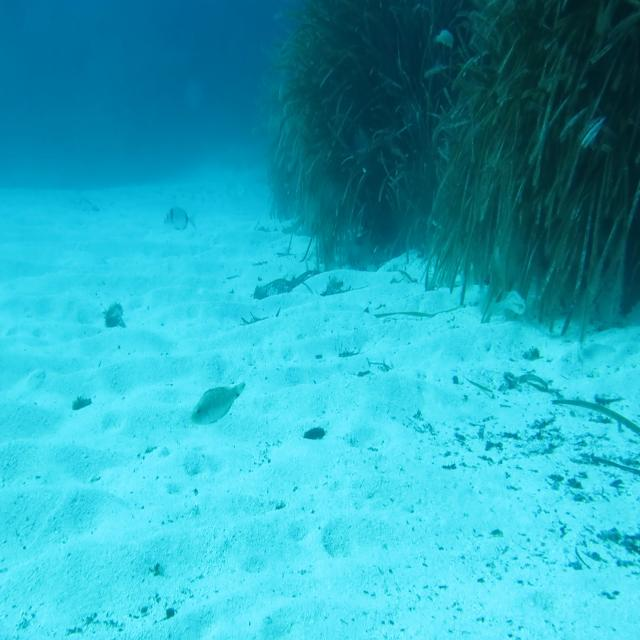BN: (189, 381, 246, 426)
female: (492, 289, 526, 320)
other_fish: (575, 111, 608, 156), (164, 200, 198, 240), (432, 24, 458, 54)
vegetation: (262, 4, 639, 333), (497, 362, 640, 564), (252, 267, 335, 302), (100, 303, 126, 333), (304, 425, 326, 446), (73, 394, 102, 408)
